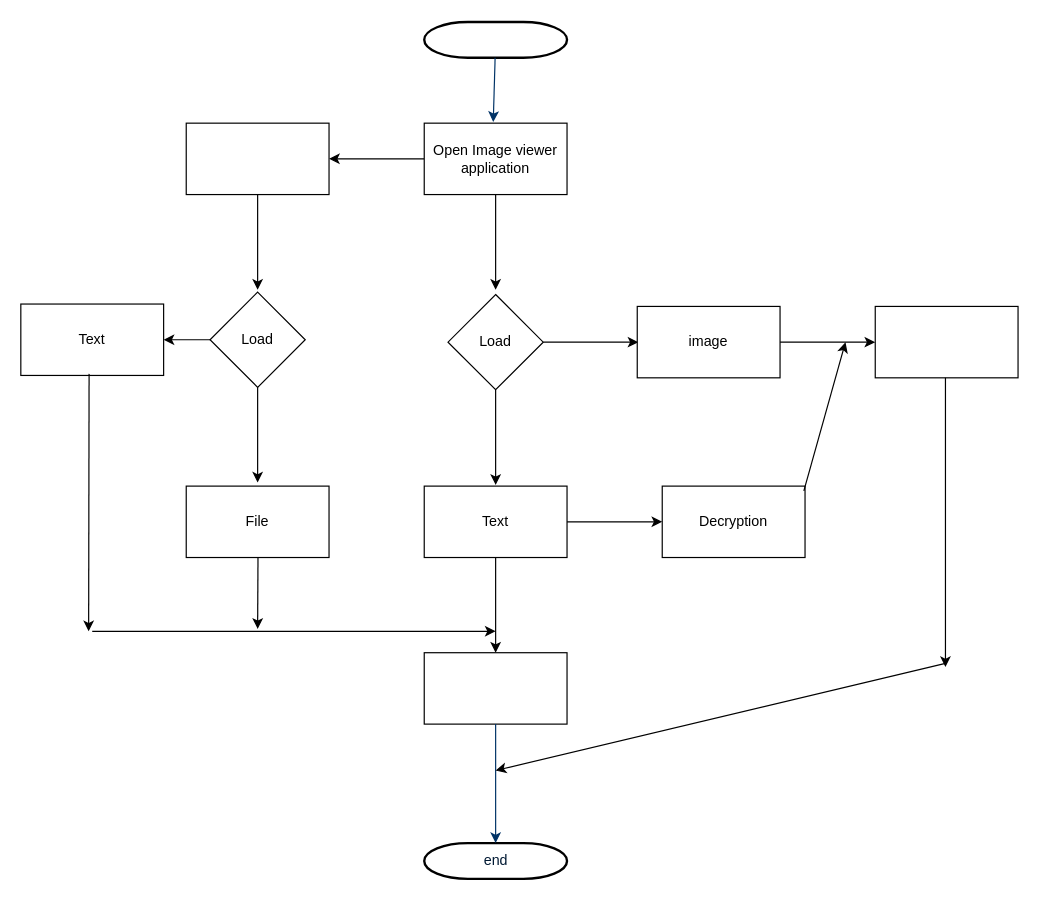
This 1039x900 diagram has some shape labels left out. Here are the shapes that lost their labels. From the top down, the box of each, then its label:
(422, 20, 568, 58): start
(185, 122, 329, 195): Encryption
(874, 305, 1018, 378): Convert it to text
(423, 652, 567, 724): convert it to image
